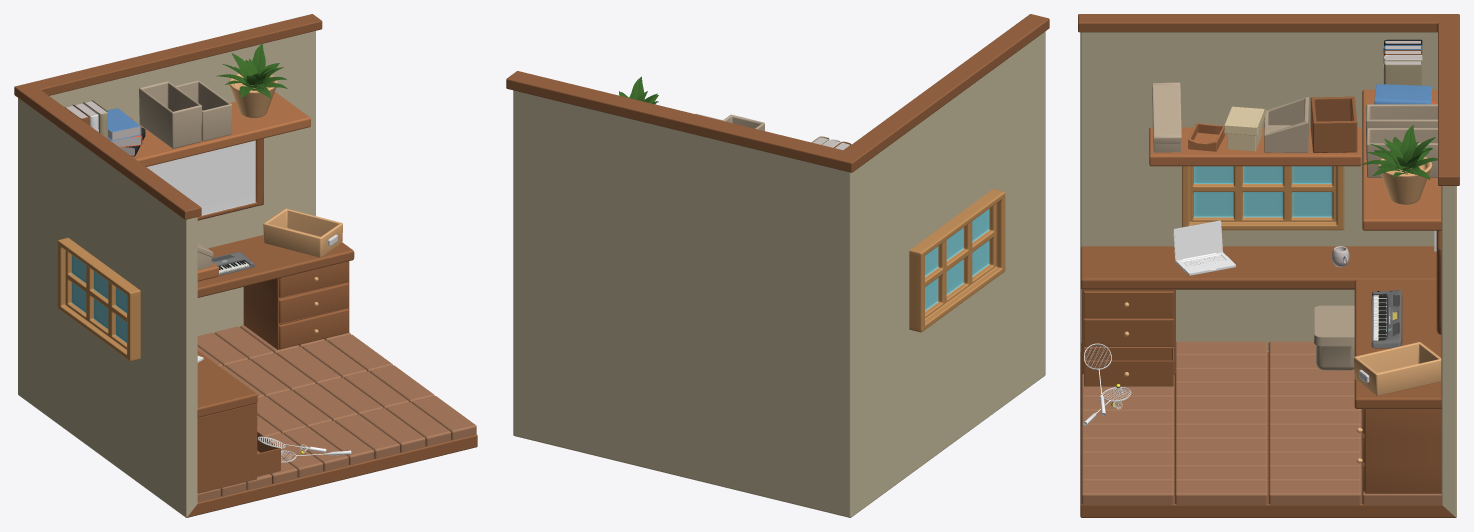
The model's file is maxpolyroom.glb.
The picture shows the model from 3 angles, left to right: view 1: azimuth 30°, elevation 25°; view 2: azimuth 150°, elevation 25°; view 3: azimuth 270°, elevation 25°; orthographic projection. The views are drawn at different scales.
Visible parts, largest first — view 1: Room Base, Floor, Plane.041, Dolap, Window, Pano, Kucuk_dolap, Dolap_ustu, Raf_sag, Cube.017, Cube.020, Masa (+3 smaller); view 2: Room Base, Plane.041, Window; view 3: Room Base, Floor, Masa, Plane.041, Window, Kucuk_dolap, Dolap, Dolap_ustu, Raf_sag.001, Raf_sag, Cube.020, Cube.019 (+14 smaller).
Boxes of the visible parts, bbox=[...] form: Room Base: bbox=[18, 31, 477, 517]; Floor: bbox=[197, 325, 476, 502]; Plane.041: bbox=[14, 14, 322, 219]; Dolap: bbox=[243, 261, 349, 349]; Window: bbox=[57, 237, 140, 361]; Pano: bbox=[146, 138, 263, 220]; Kucuk_dolap: bbox=[197, 403, 280, 493]; Dolap_ustu: bbox=[197, 235, 354, 297]; Raf_sag: bbox=[132, 92, 310, 166]; Cube.017: bbox=[139, 81, 201, 148]; Cube.020: bbox=[263, 208, 342, 257]; Masa: bbox=[197, 351, 257, 417]; Room Base: bbox=[513, 31, 1045, 517]; Plane.041: bbox=[506, 14, 1049, 172]; Window: bbox=[909, 189, 1005, 332]; Room Base: bbox=[1080, 32, 1456, 517]; Floor: bbox=[1081, 341, 1442, 505]; Masa: bbox=[1080, 246, 1436, 289]; Plane.041: bbox=[1078, 14, 1459, 185]; Window: bbox=[1182, 166, 1344, 230]; Kucuk_dolap: bbox=[1082, 289, 1175, 386]; Dolap: bbox=[1356, 409, 1441, 493]; Dolap_ustu: bbox=[1354, 279, 1441, 408]; Raf_sag.001: bbox=[1149, 127, 1361, 166]; Raf_sag: bbox=[1362, 89, 1441, 230]; Cube.020: bbox=[1354, 342, 1441, 395]; Cube.019: bbox=[1314, 305, 1354, 370].
Size of the model in its own units: 5.1 by 4.9 by 4.92.
